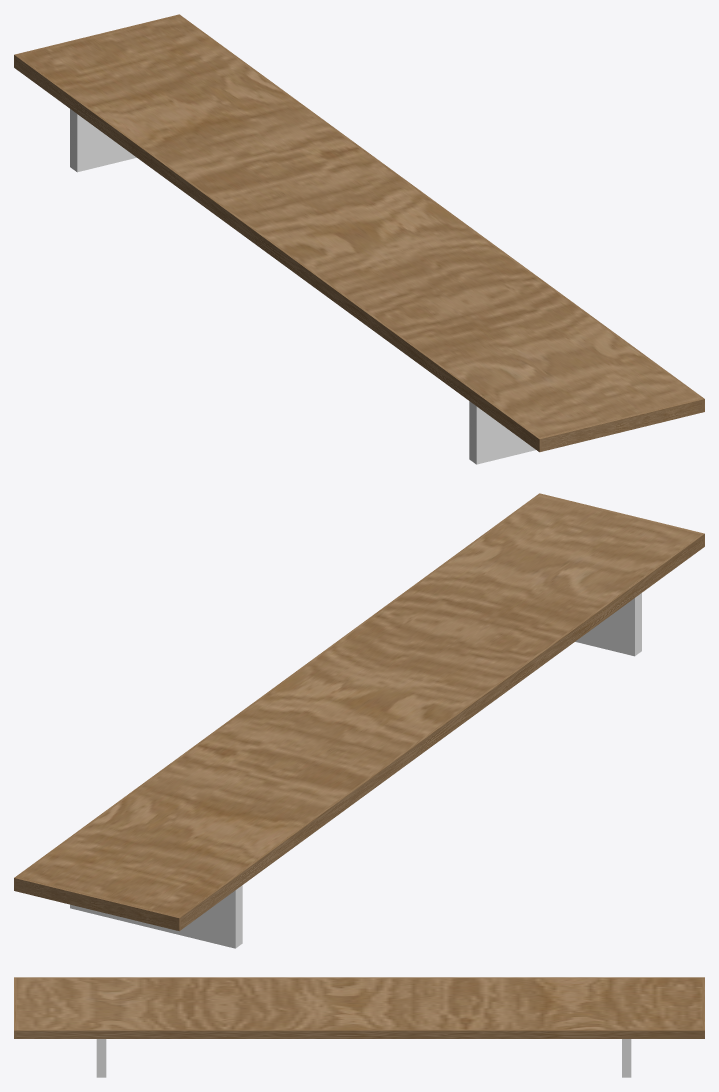
The model's file is computerdesk.glb.
The picture shows the model from 3 angles, top to bottom: view 1: azimuth 30°, elevation 25°; view 2: azimuth 150°, elevation 25°; view 3: azimuth 270°, elevation 25°; orthographic projection. The views are drawn at different scales.
Visible parts, largest first — view 1: Object_89, Object_87, Object_84; view 2: Object_89, Object_84, Object_87; view 3: Object_89, Object_87, Object_84.
Part boxes in pixels (box(x1,y1,x2,y2)): Object_89: box(14, 14, 704, 452); Object_87: box(469, 401, 535, 464); Object_84: box(70, 109, 136, 172); Object_89: box(14, 493, 704, 931); Object_84: box(70, 885, 242, 948); Object_87: box(575, 593, 641, 656); Object_89: box(14, 977, 704, 1038); Object_87: box(96, 1039, 106, 1077); Object_84: box(622, 1039, 631, 1077).
Size of the model in its own units: 0.2173 by 0.0896 by 1.2.
2 materials, 1 textured.
